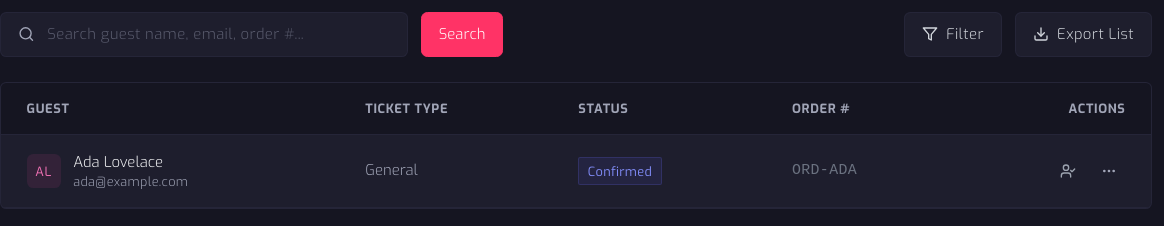
Attendees search, export, and check-in › filters the attendee list with the ticket status the API already accepts
Expected: the text "Ada Lovelace" is shown, [73,152,163,172]
Click the button with aria-label "Filter attendees": (953, 34) [904,12,1002,56]
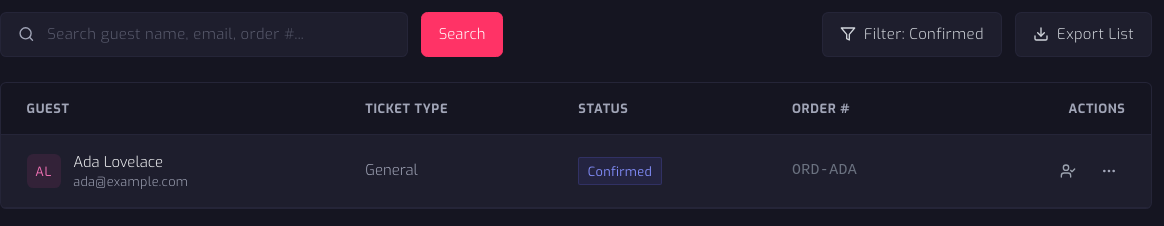
Now the button with aria-label "Filter attendees" reads "Filter: Confirmed", box [822,12,1002,56]
